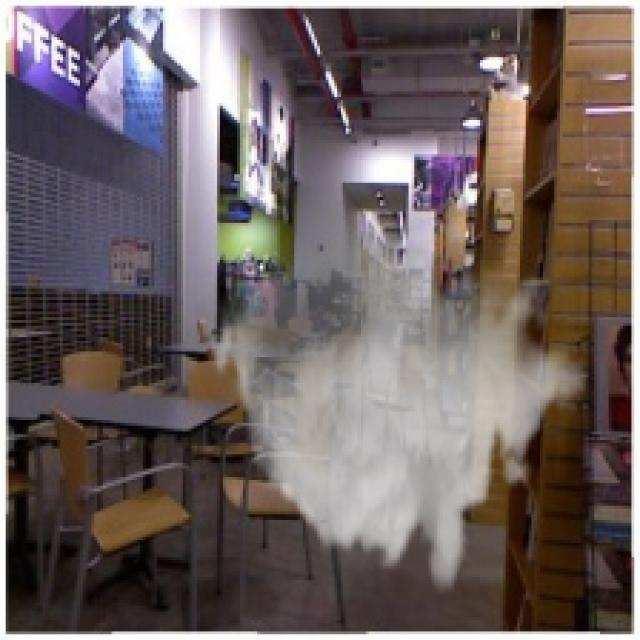smoke: (206, 200, 588, 594)
